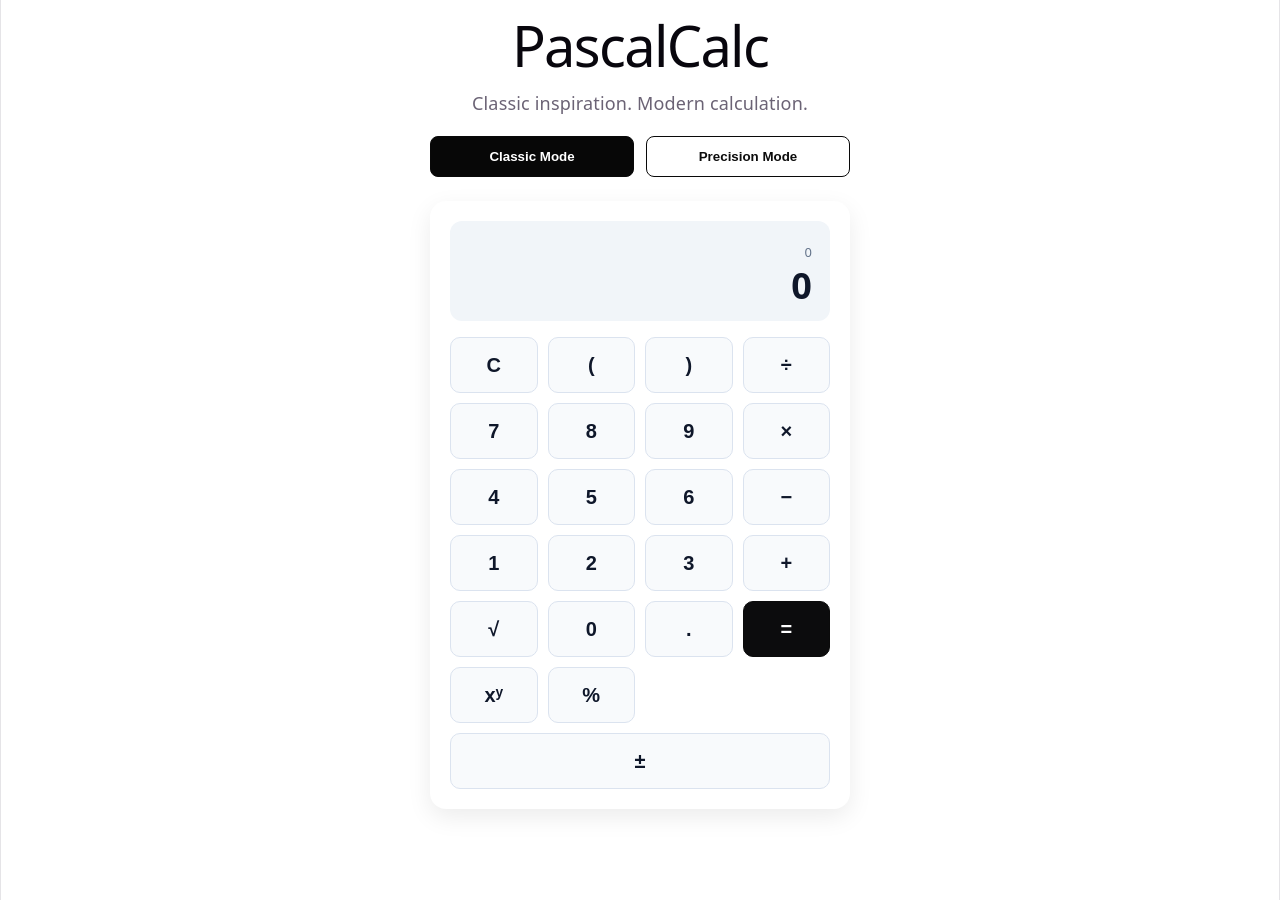
it: PascalCalc - Precision Mode › calculates square root using the Math API
This screenshot has width=1280, height=900.
Click the button "Precision Mode".
click(748, 157)  # box [646, 136, 850, 177]
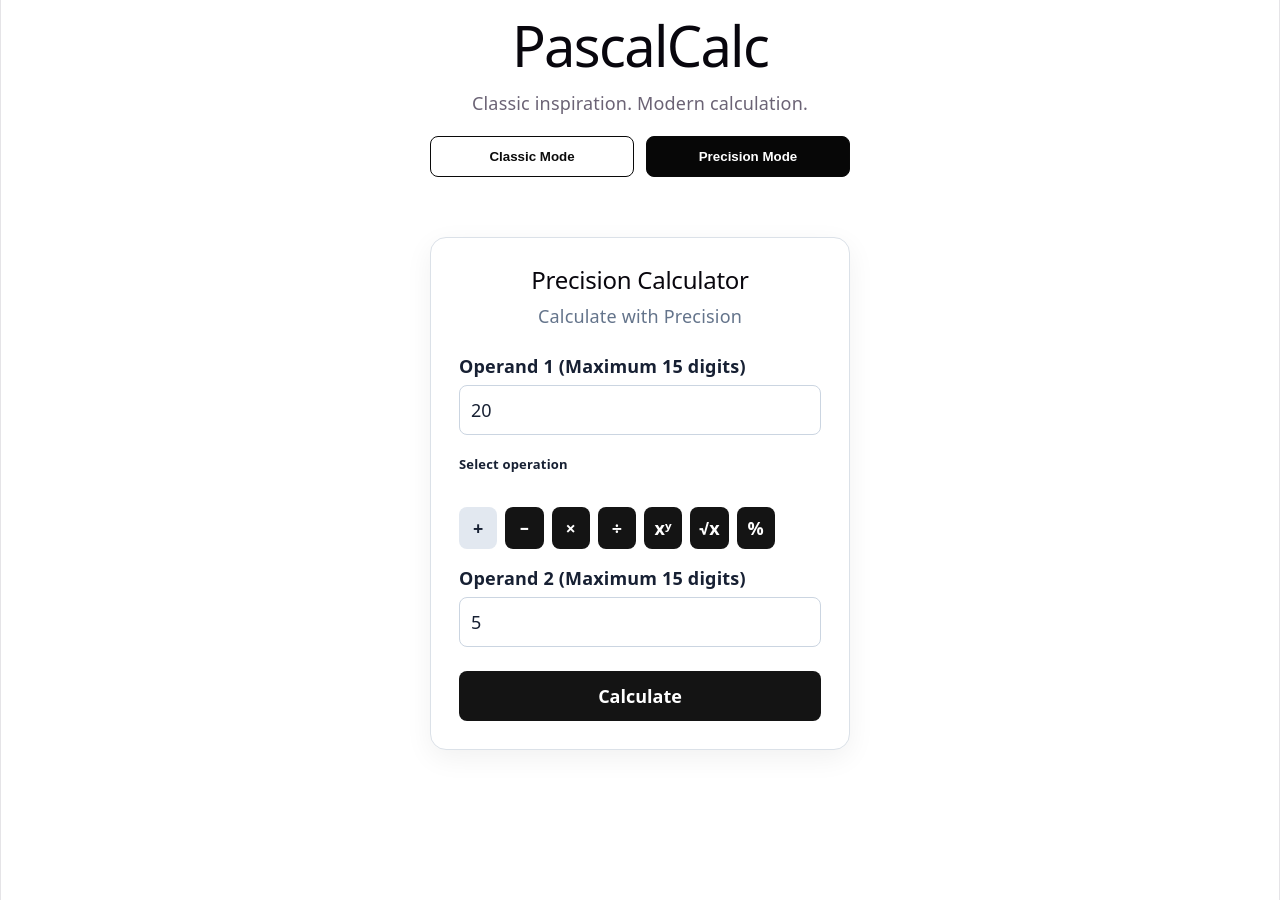
Click the button named "Square Root".
click(709, 528)  # box [690, 507, 729, 549]
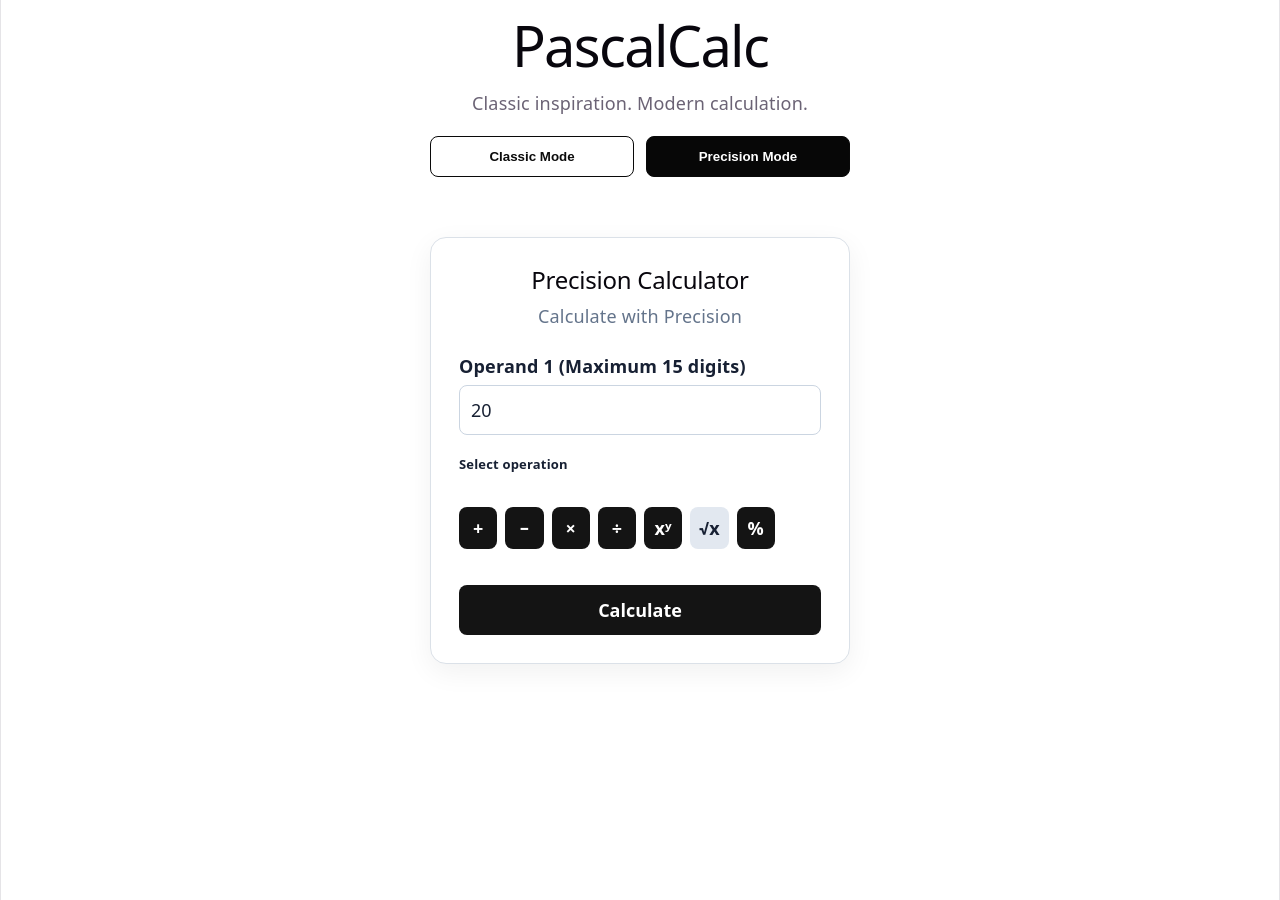
Replace the text in the field labelled "Operand 1 (Maximum 15 digits)" with "81" at (640, 410), box [459, 385, 821, 435]
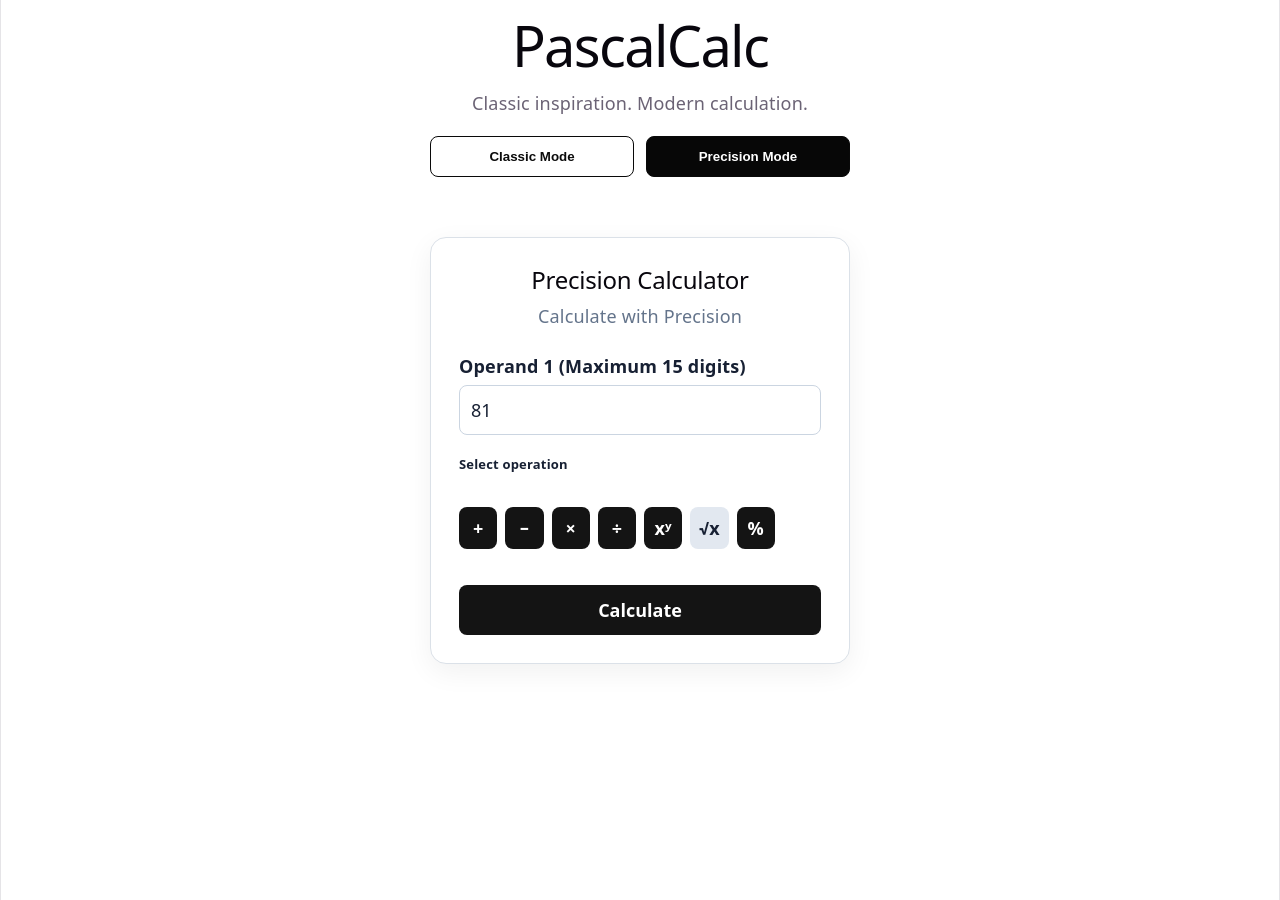
Expected: the label labelled "Operand 2" is not shown
Click the button "Calculate".
click(640, 610)  # box [459, 585, 821, 635]
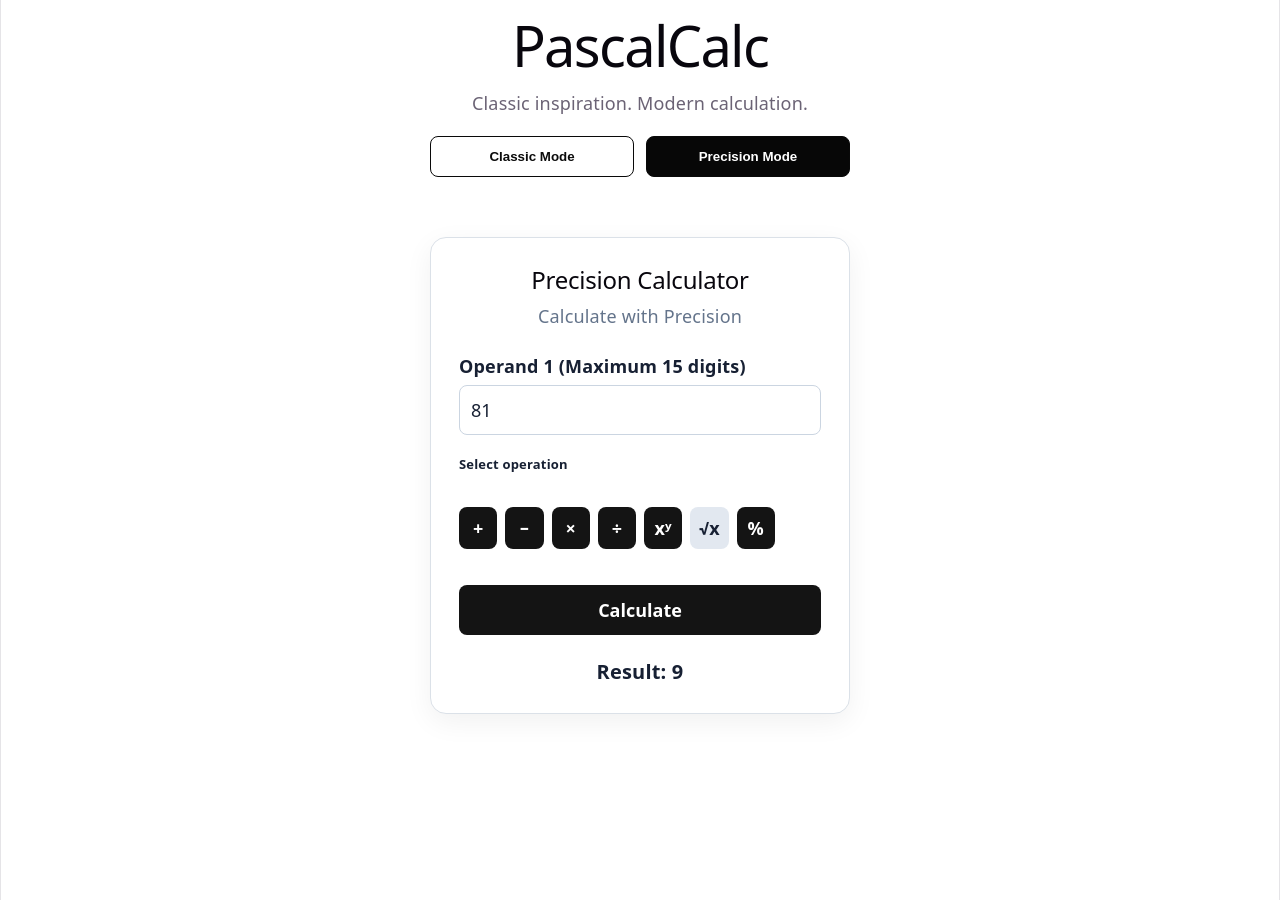
Expected: the message reads "Result: 9", [597, 658, 684, 685]
